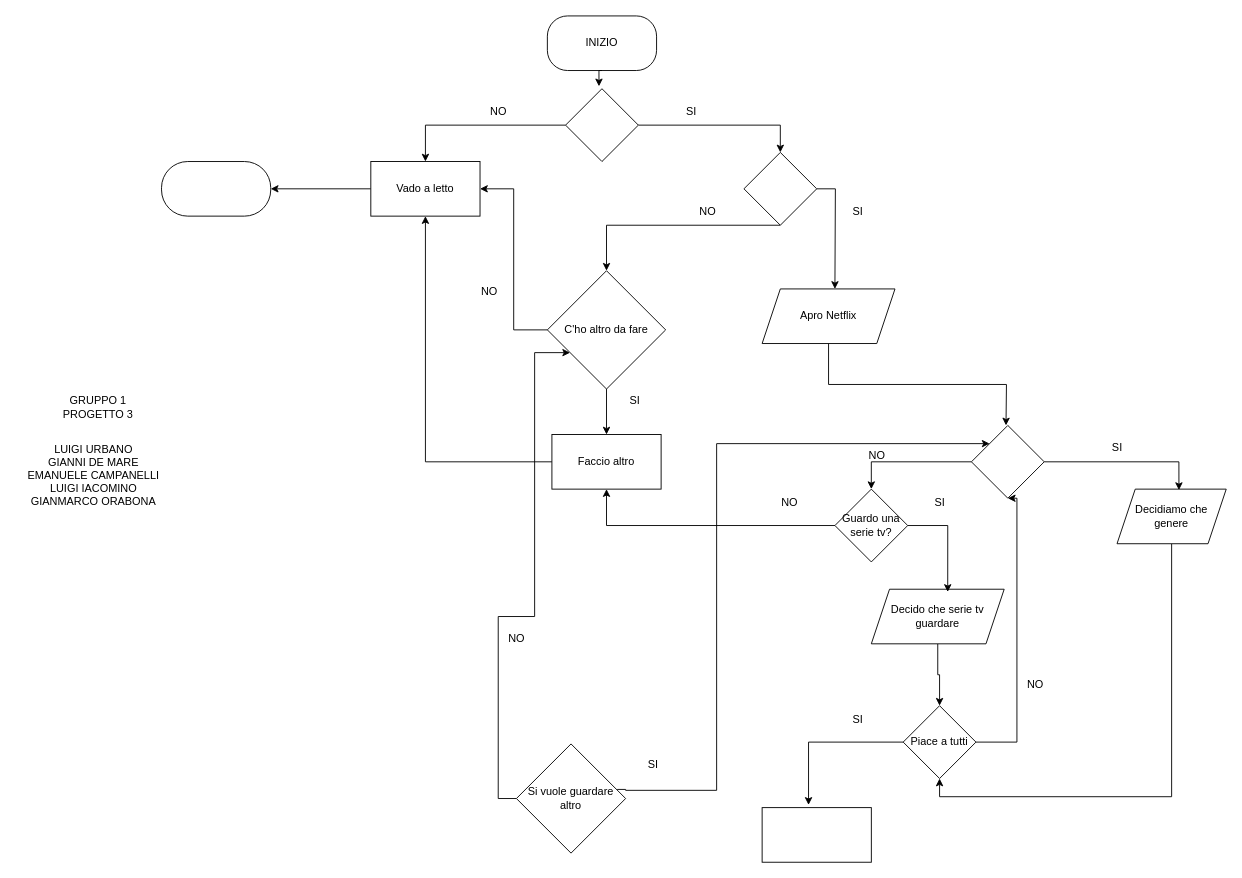
This 1242x878 diagram has some shape labels left out. The centre of each missing label's shape, as x and y in pixels:
"FINE" goes at point 216,188.
"Guardiamo la cosa scelta" goes at point 816,834.
"Guardo un film?" goes at point 1007,461.
"Ho tempo?" goes at point 601,125.
"Ho voglia" goes at point 780,188.
